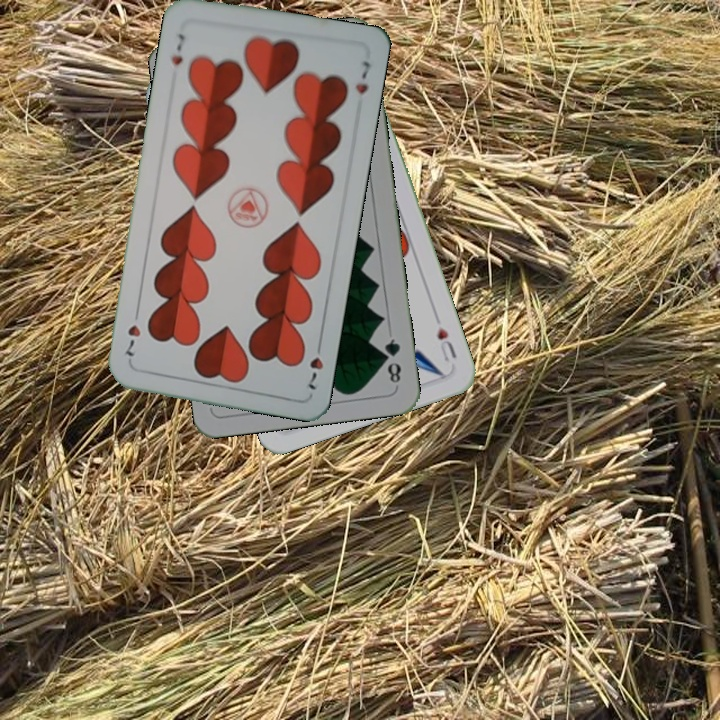G8: (379, 334, 404, 386)
H7: (303, 336, 326, 393), (167, 29, 187, 68)
HU: (431, 312, 459, 365)
